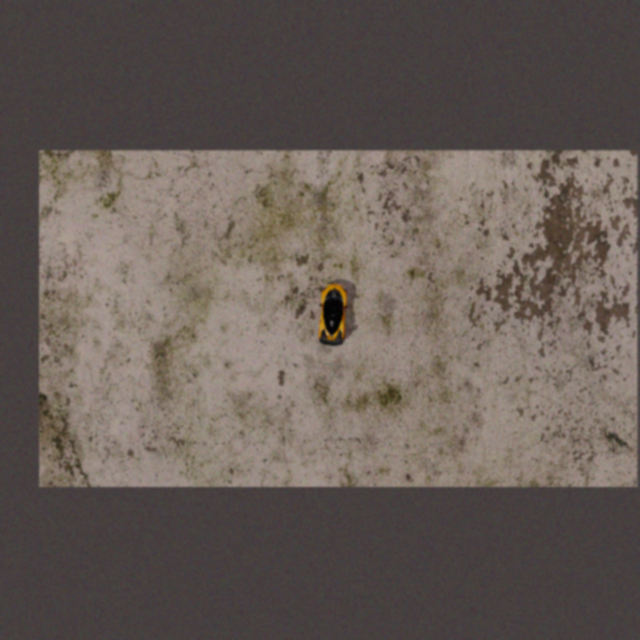car: (317, 282, 349, 347)
